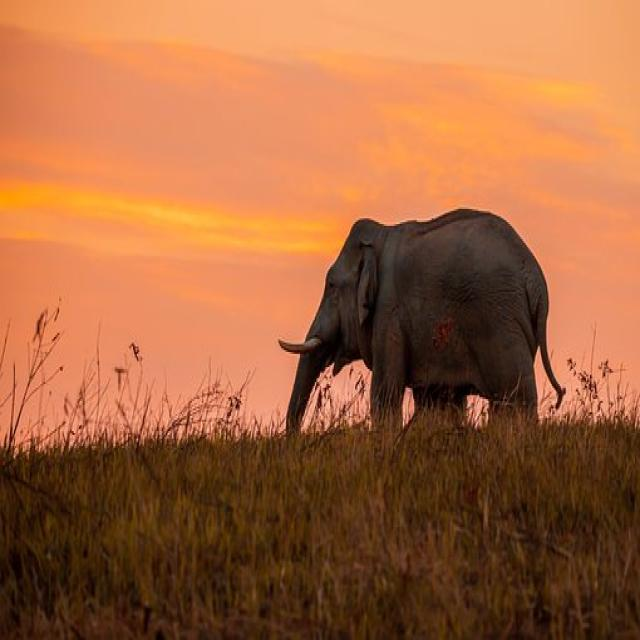Elephant: (277, 198, 570, 465)
